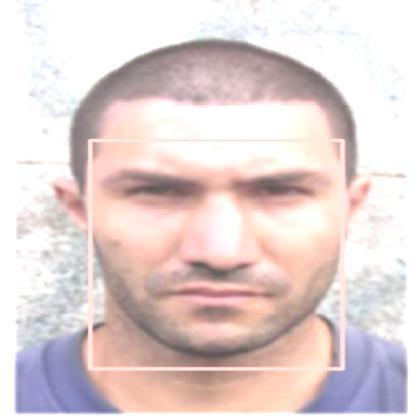without_mask: (90, 140, 342, 368)
